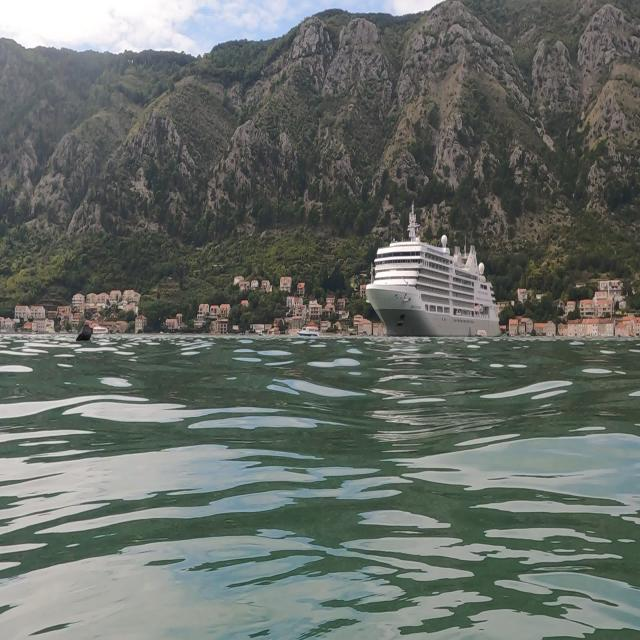boat: (364, 199, 504, 342)
buoy: (75, 315, 97, 351)
